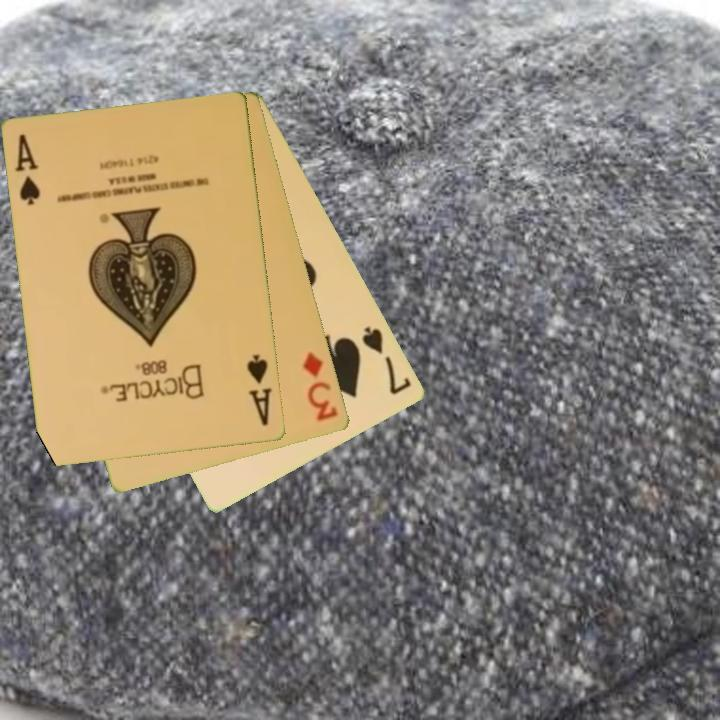3d: (300, 348, 342, 424)
7s: (359, 322, 415, 398)
As: (244, 351, 276, 429), (12, 131, 44, 209)
